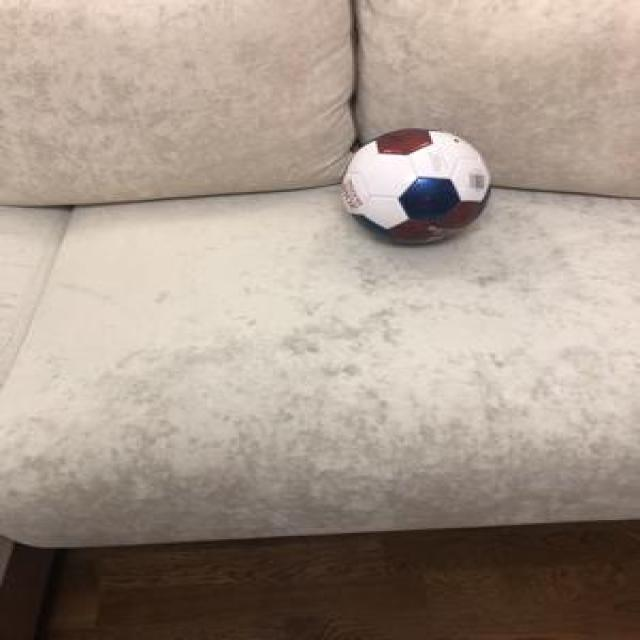Soccer Ball: (335, 125, 493, 246)
